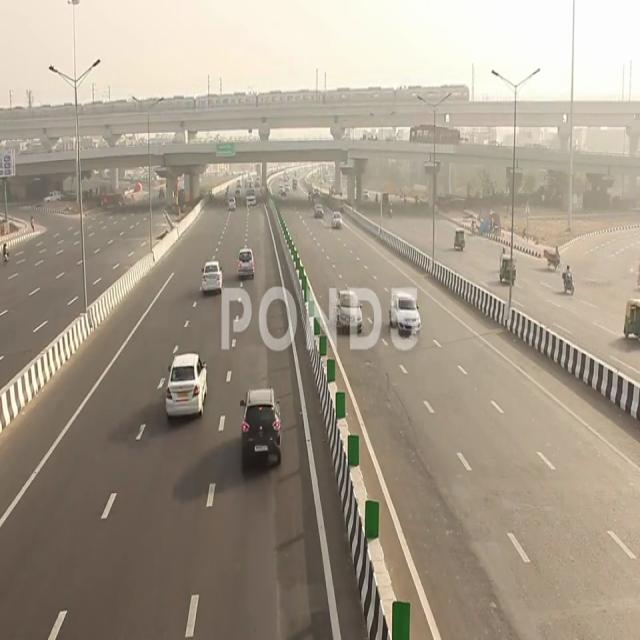car: (238, 378, 286, 473), (165, 343, 208, 433), (386, 287, 423, 345), (331, 284, 366, 340), (199, 250, 223, 302), (238, 243, 255, 291)
